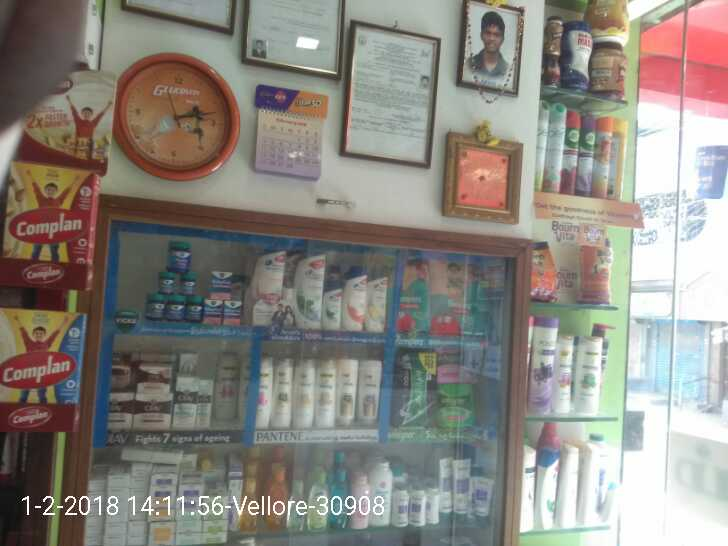vicks: (140, 239, 241, 327)
